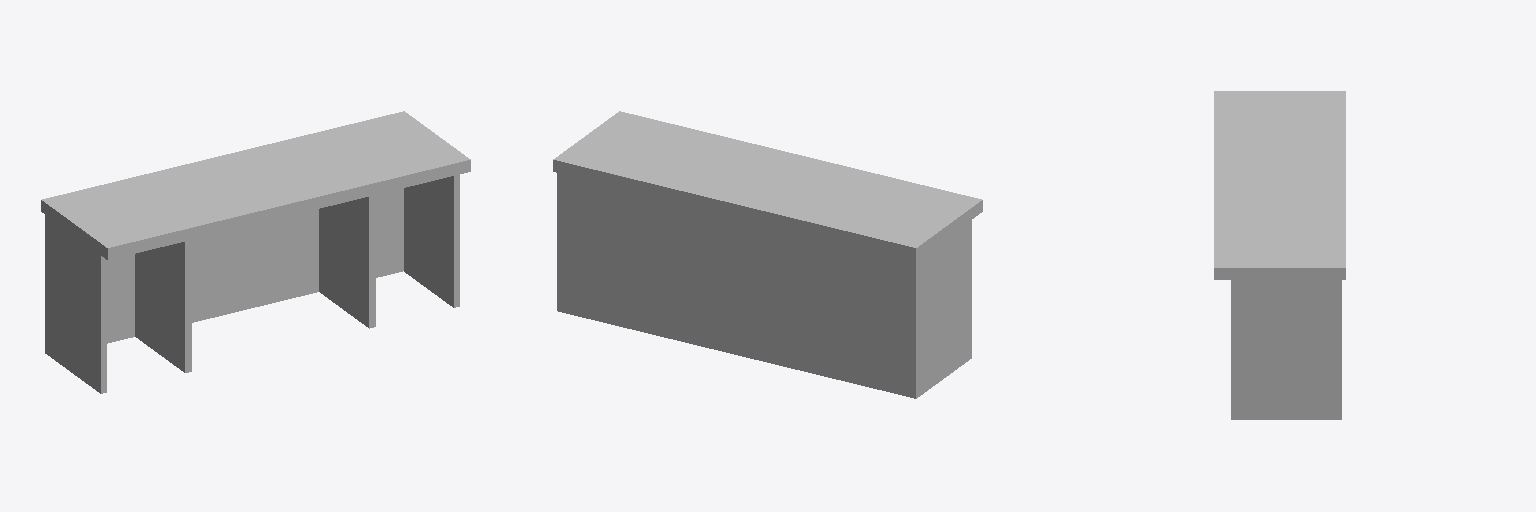
File: Office_Desk_3_Alt.obj
The picture shows the model from 3 angles: view 1: azimuth 30°, elevation 25°; view 2: azimuth 150°, elevation 25°; view 3: azimuth 270°, elevation 25°; orthographic projection.
Visible parts, largest first — view 1: Office_Desk_3_Alt; view 2: Office_Desk_3_Alt; view 3: Office_Desk_3_Alt.
Boxes of the visible parts, box(x1,y1,x2,y2) form: Office_Desk_3_Alt: box(41, 111, 470, 393); Office_Desk_3_Alt: box(553, 111, 982, 398); Office_Desk_3_Alt: box(1214, 91, 1345, 419).
Bounding box in the file's own units: 2.37 × 0.9509 × 0.75.